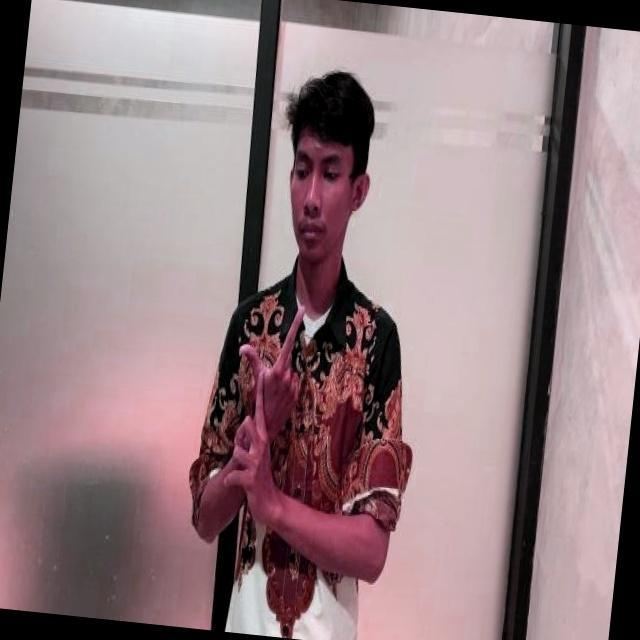Y: (220, 302, 310, 510)
